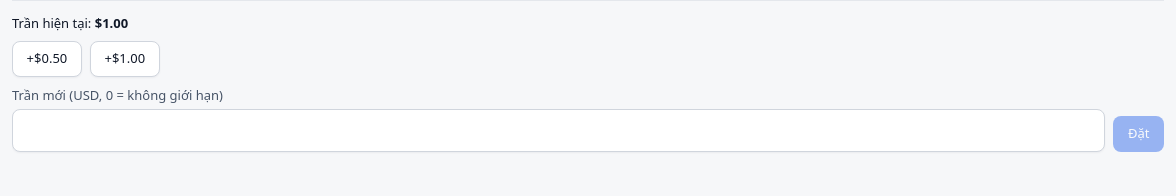
Test: CapEditor › refuses a negative cap without asking the server
The image size is (1176, 196).
Type "-1" into the number field labelled "Trần mới (USD, 0 = không giới hạn)" at (559, 131), box [12,109,1105,152]
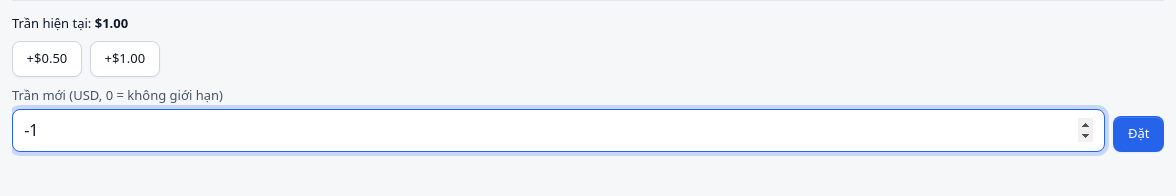
Click the button "Đặt" at (1139, 134), box [1113,116,1164,152]
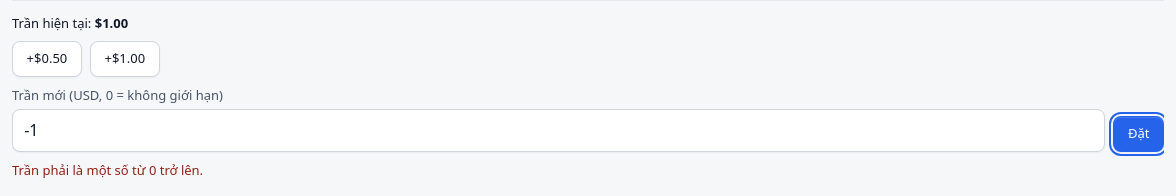
Now the message reads "Trần phải là một số từ 0 trở lên.", box [12,161,203,179]
